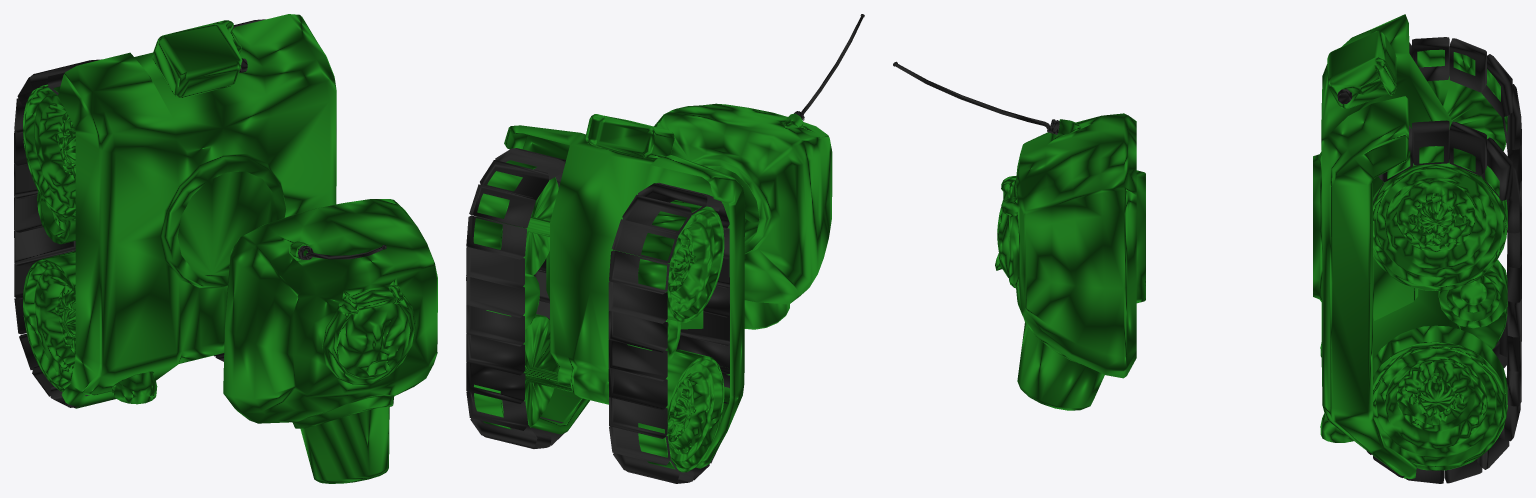
File: Tank__cv1.fbx
3 renders of one model, left to right at view 1: azimuth 30°, elevation 25°; view 2: azimuth 150°, elevation 25°; view 3: azimuth 270°, elevation 25°, orthographic. The views are drawn at different scales.
Parts seen in each view (by area): view 1: TankChassis, TankTurret, TankTracksRight; view 2: TankTracksRight, TankChassis, TankTracksLeft, TankTurret; view 3: TankTracksLeft, TankChassis, TankTurret, TankTracksRight.
Boxes of the visible parts, bbox=[...] form: TankChassis: bbox=[37, 14, 336, 408]; TankTurret: bbox=[223, 199, 437, 483]; TankTracksRight: bbox=[14, 59, 113, 407]; TankTracksRight: bbox=[608, 182, 729, 483]; TankChassis: bbox=[486, 114, 744, 468]; TankTracksLeft: bbox=[466, 148, 577, 448]; TankTurret: bbox=[654, 14, 864, 329]; TankTracksLeft: bbox=[1366, 120, 1521, 483]; TankChassis: bbox=[1313, 14, 1507, 478]; TankTurret: bbox=[893, 61, 1145, 410]; TankTracksRight: bbox=[1409, 37, 1521, 368].
Bounding box in the file's own units: 170 × 238 × 357.
